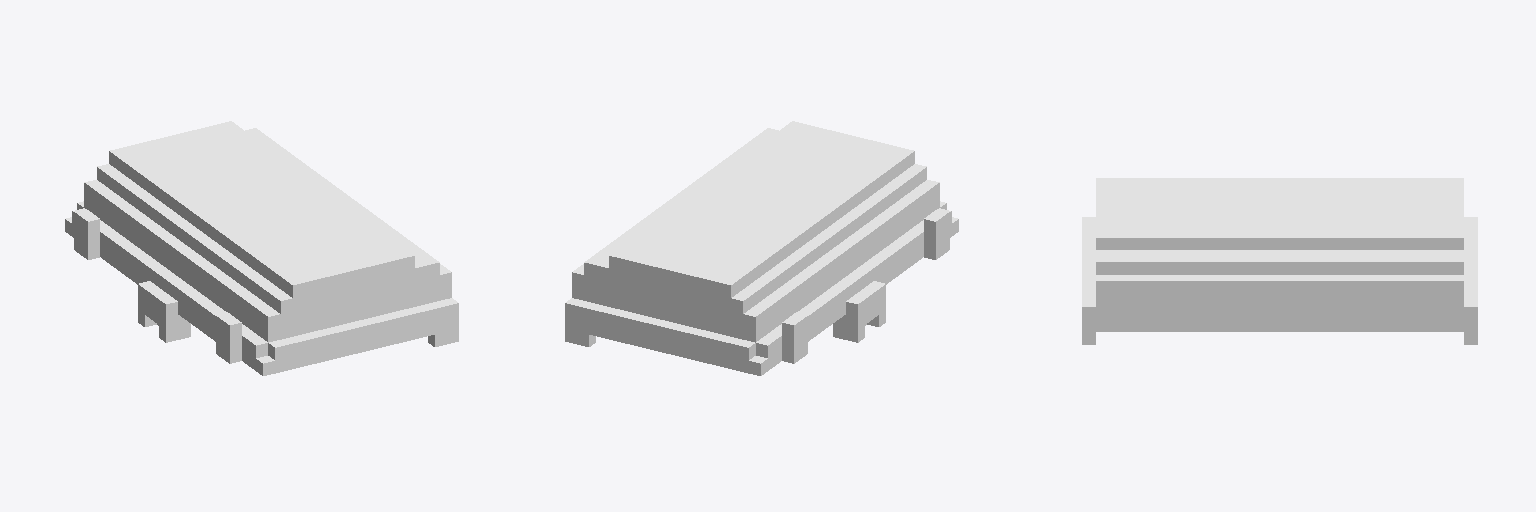
Rendered from vox-61-ChestHood_Close.obj.
3 views of the same model, side by side, from view 1: azimuth 30°, elevation 25°; view 2: azimuth 150°, elevation 25°; view 3: azimuth 270°, elevation 25° (orthographic).
Visible parts, largest first — view 1: ChestHood_Close; view 2: ChestHood_Close; view 3: ChestHood_Close.
Boxes of the visible parts, <box> form: ChestHood_Close: <box>65,121,458,375</box>; ChestHood_Close: <box>565,121,958,375</box>; ChestHood_Close: <box>1082,178,1477,344</box>.
Size of the model in its own units: 1.7 by 0.8 by 2.8.